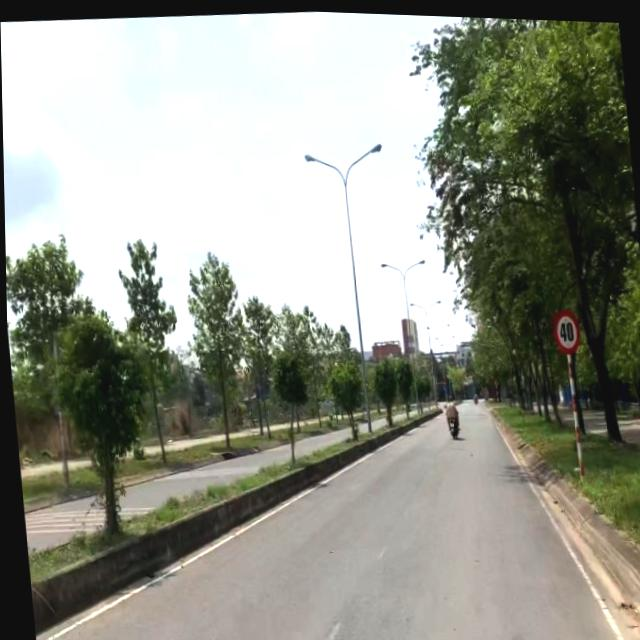Cam di nguoc chieu: (439, 376, 444, 382)
Toc do toi da cho phep: (549, 302, 580, 352)
Vong chuong ngai vat sang phai: (440, 382, 446, 389)
